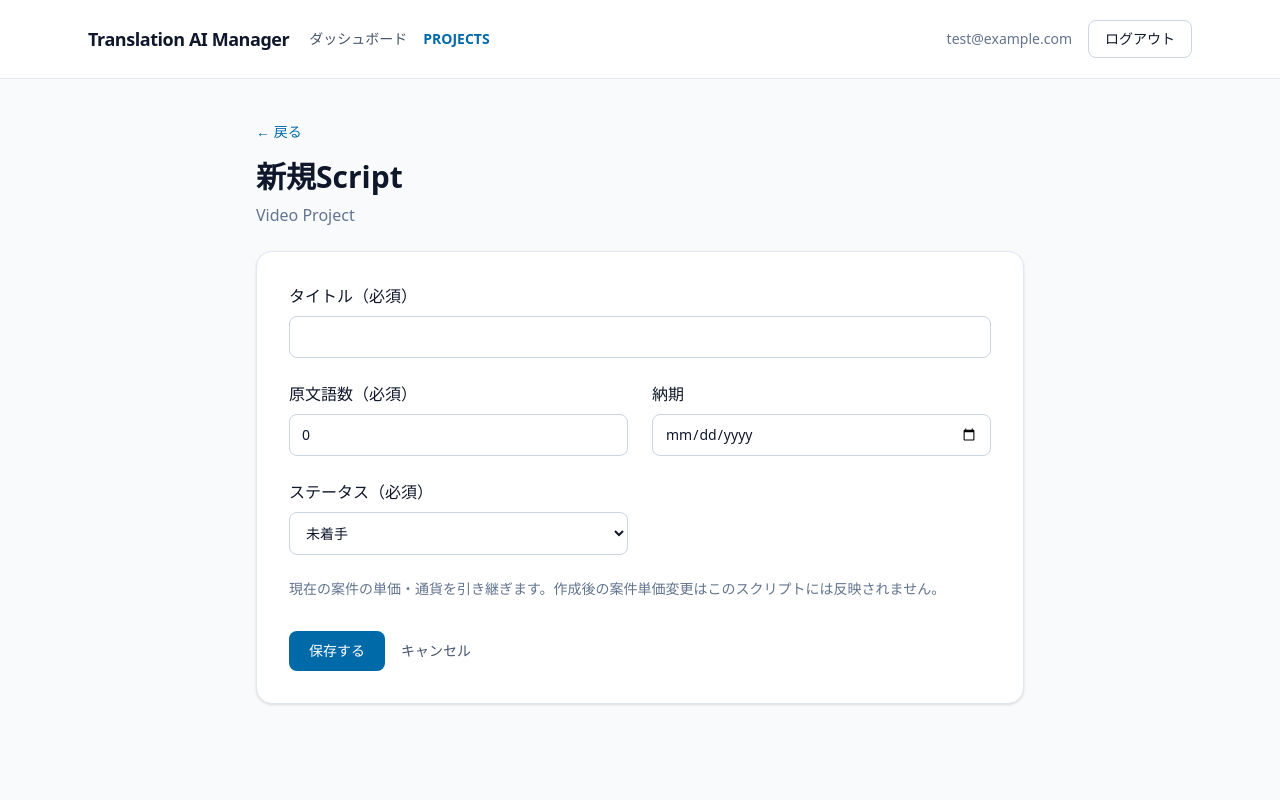
preserves form values and displays server field errors
The image size is (1280, 800).
In the field labelled "タイトル（必須）": (640, 337) x1=289 y1=316 x2=991 y2=358, type "Keep me"
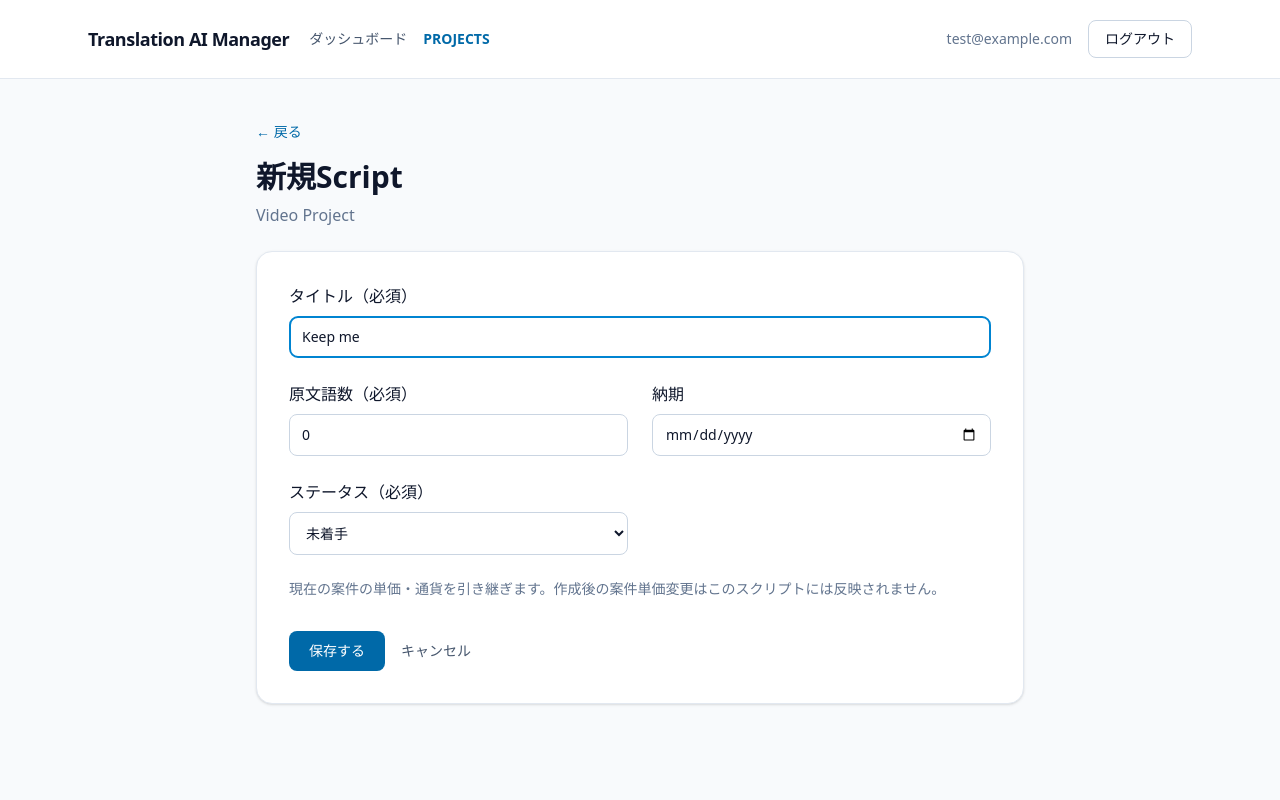
Click the button "保存する": (337, 651) x1=289 y1=631 x2=385 y2=671
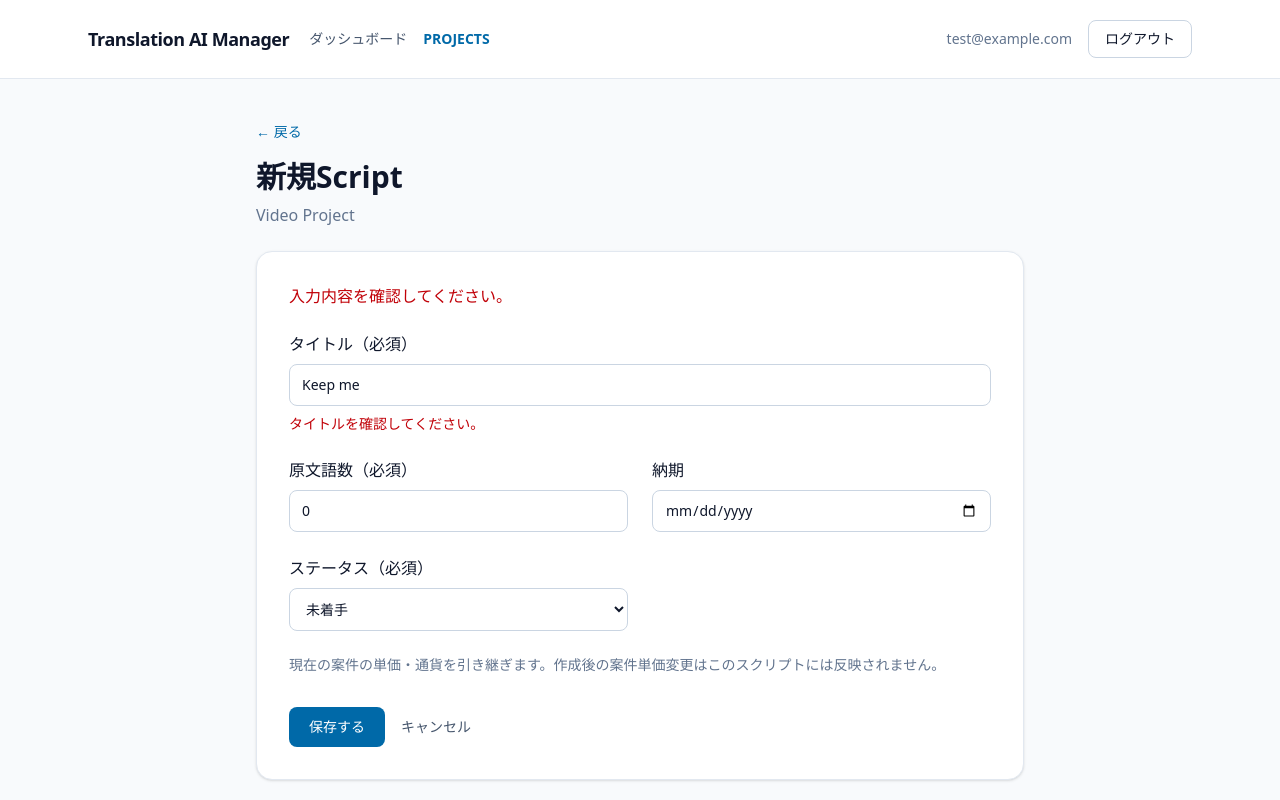
Expected: the text "タイトルを確認してください。" is shown, x1=289 y1=414 x2=484 y2=433
